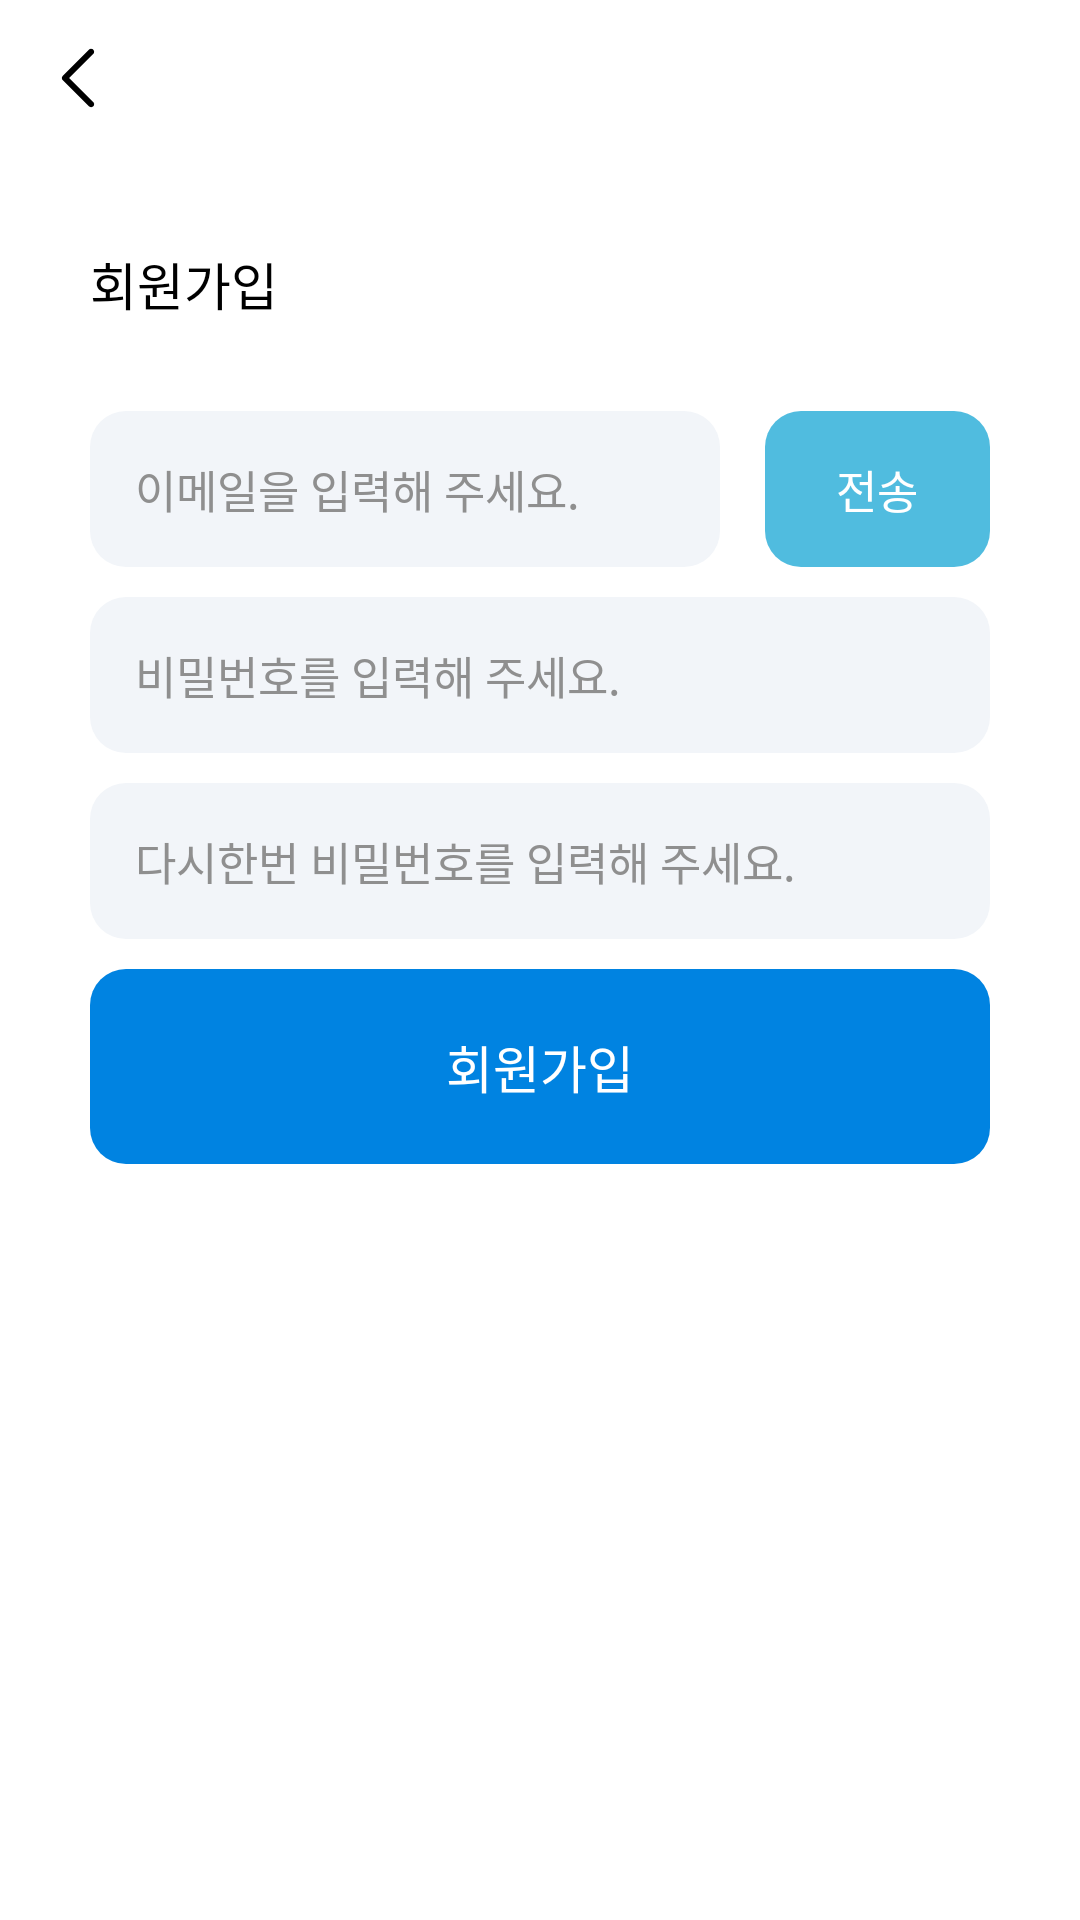

Point at icon controls on the screen. Image size 1080px x 1920px, points as [x,y].
back: [78,78]
